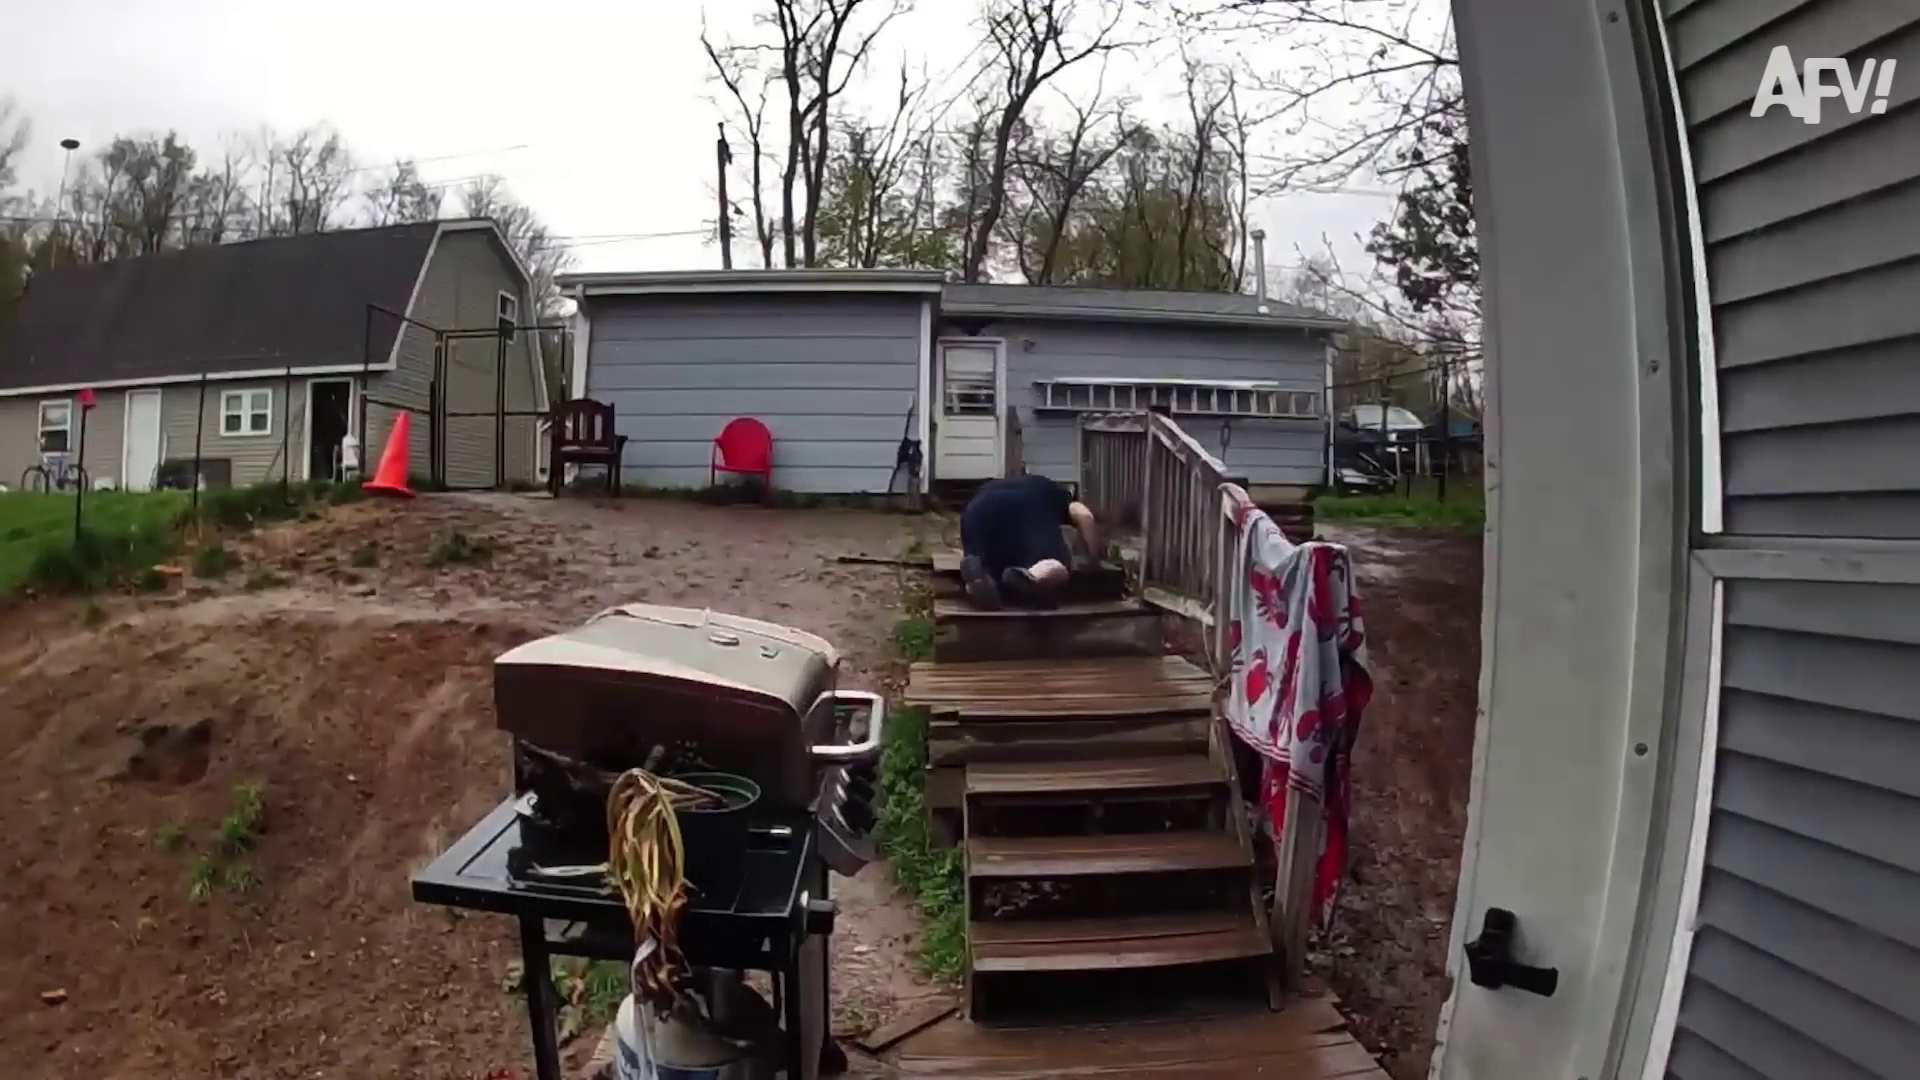fall: (902, 447, 1168, 640)
